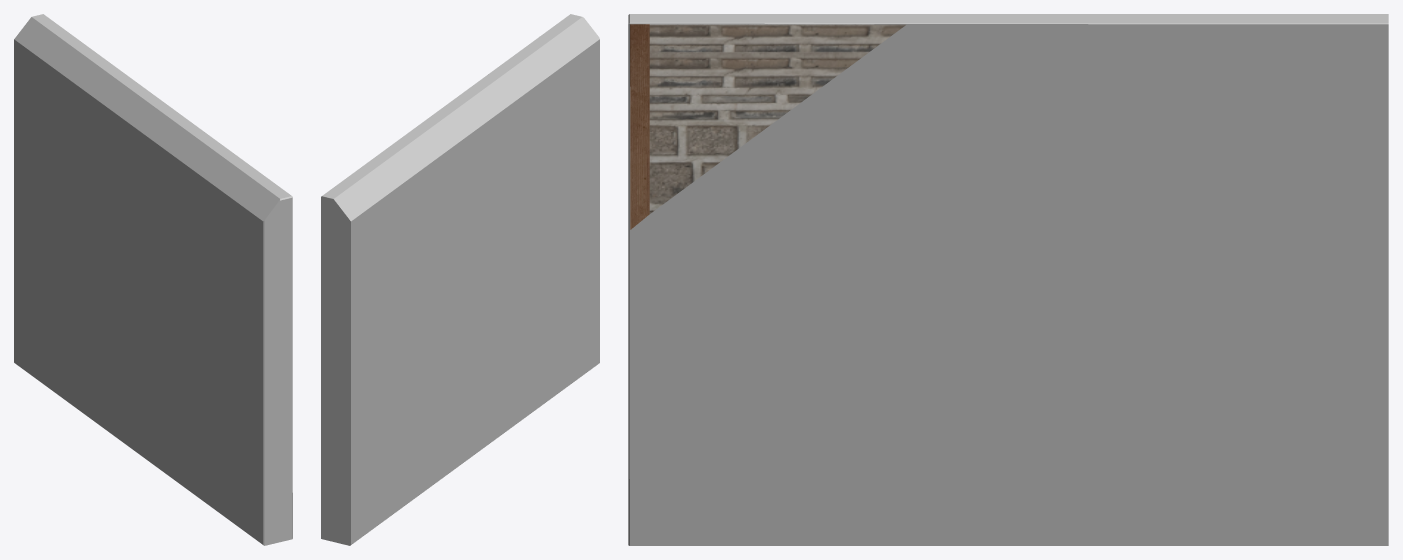
File: SM_HBJ_HG_StoneWallL.fbx
The picture shows the model from 3 angles, left to right: view 1: azimuth 30°, elevation 25°; view 2: azimuth 150°, elevation 25°; view 3: azimuth 270°, elevation 25°; orthographic projection. The views are drawn at different scales.
Visible parts, largest first — view 1: SM_HBJ_HG_StoneWallL_ConvexHulls; view 2: SM_HBJ_HG_StoneWallL_ConvexHulls; view 3: SM_HBJ_HG_StoneWallL_ConvexHulls, SM_HBJ_HG_StoneWallL.
Part boxes in pixels (x1=…): SM_HBJ_HG_StoneWallL_ConvexHulls: x1=14, y1=14, x2=292, y2=545; SM_HBJ_HG_StoneWallL_ConvexHulls: x1=321, y1=14, x2=599, y2=545; SM_HBJ_HG_StoneWallL_ConvexHulls: x1=628, y1=14, x2=1388, y2=545; SM_HBJ_HG_StoneWallL: x1=630, y1=24, x2=905, y2=229.
Bounding box in the file's own units: 16.99 × 245 × 186.
Materials: 2 (1 with a texture image).
